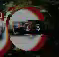Heavy Vehicles: (3, 6, 49, 47)
